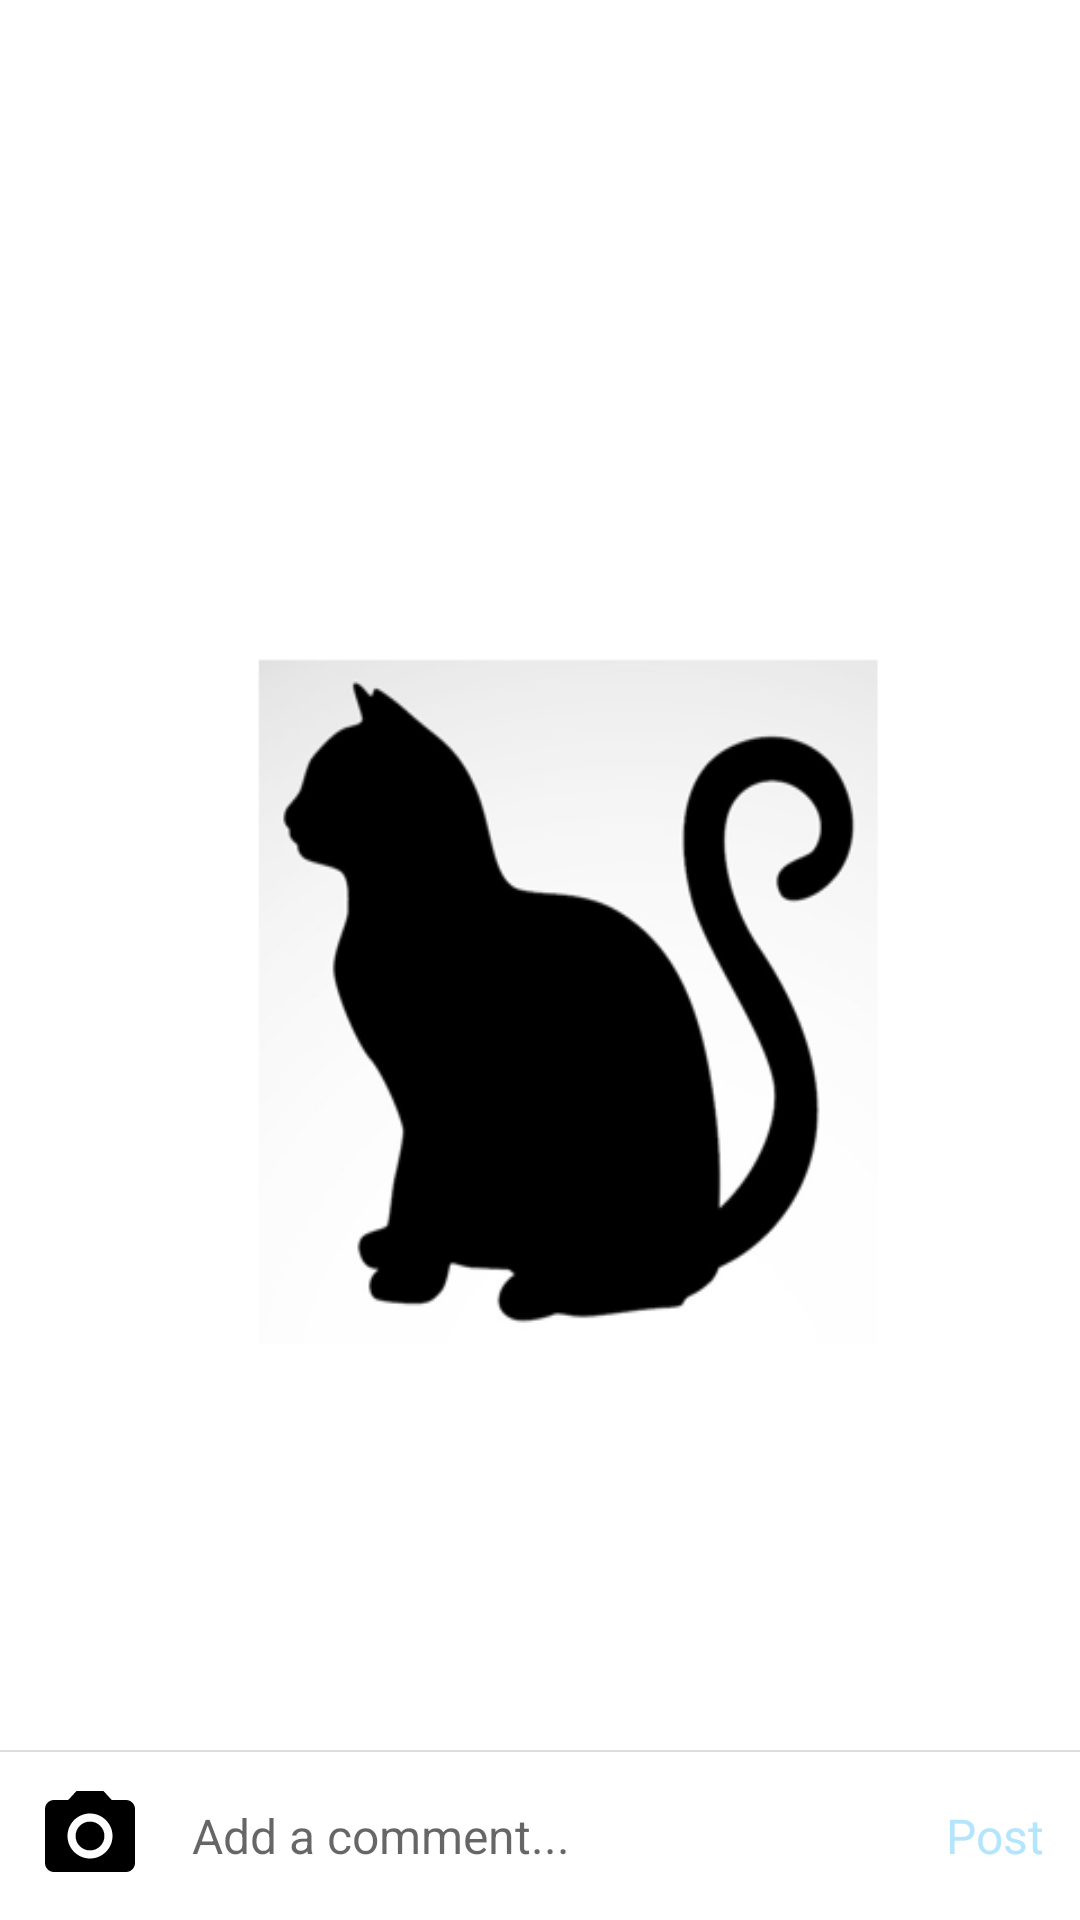

Icon click points for this 1080 × 1920 phone screenshot, format (x,y):
photo camera: (90,1831)
